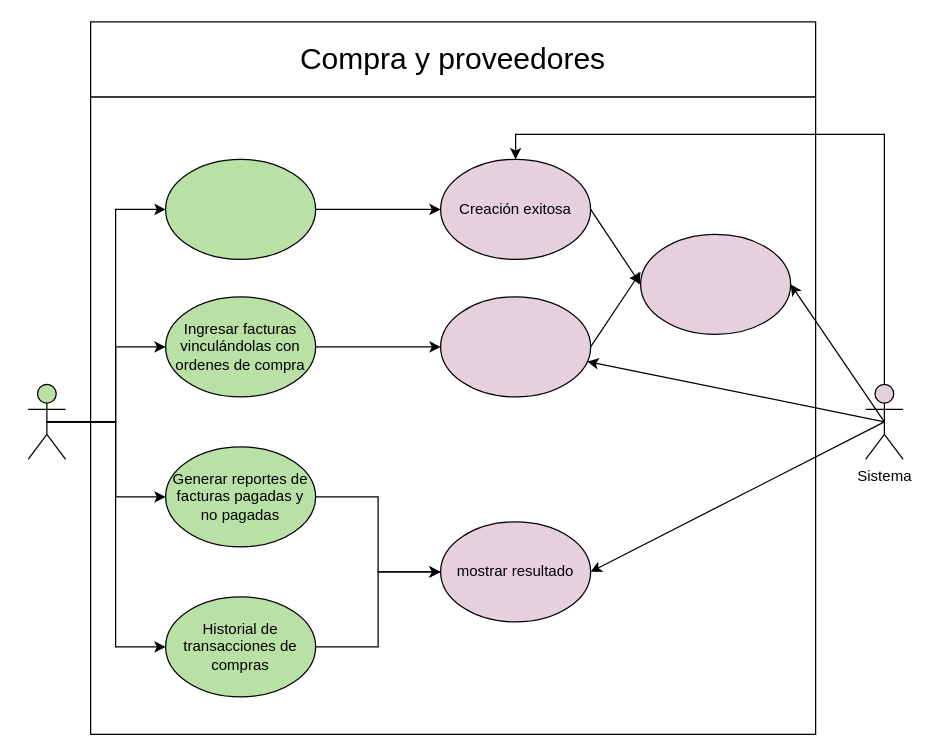
Image size: 933x756. Some labels were removed from this diagram. The box of each missing label's shape, as (x1, y1, x2, y2) in pixels:
Creación de ordenes de compra: (164, 158, 316, 259)
Guardar: (639, 233, 791, 334)
Ingresadas correctamente: (439, 296, 591, 397)
Usuario: (27, 383, 66, 459)
